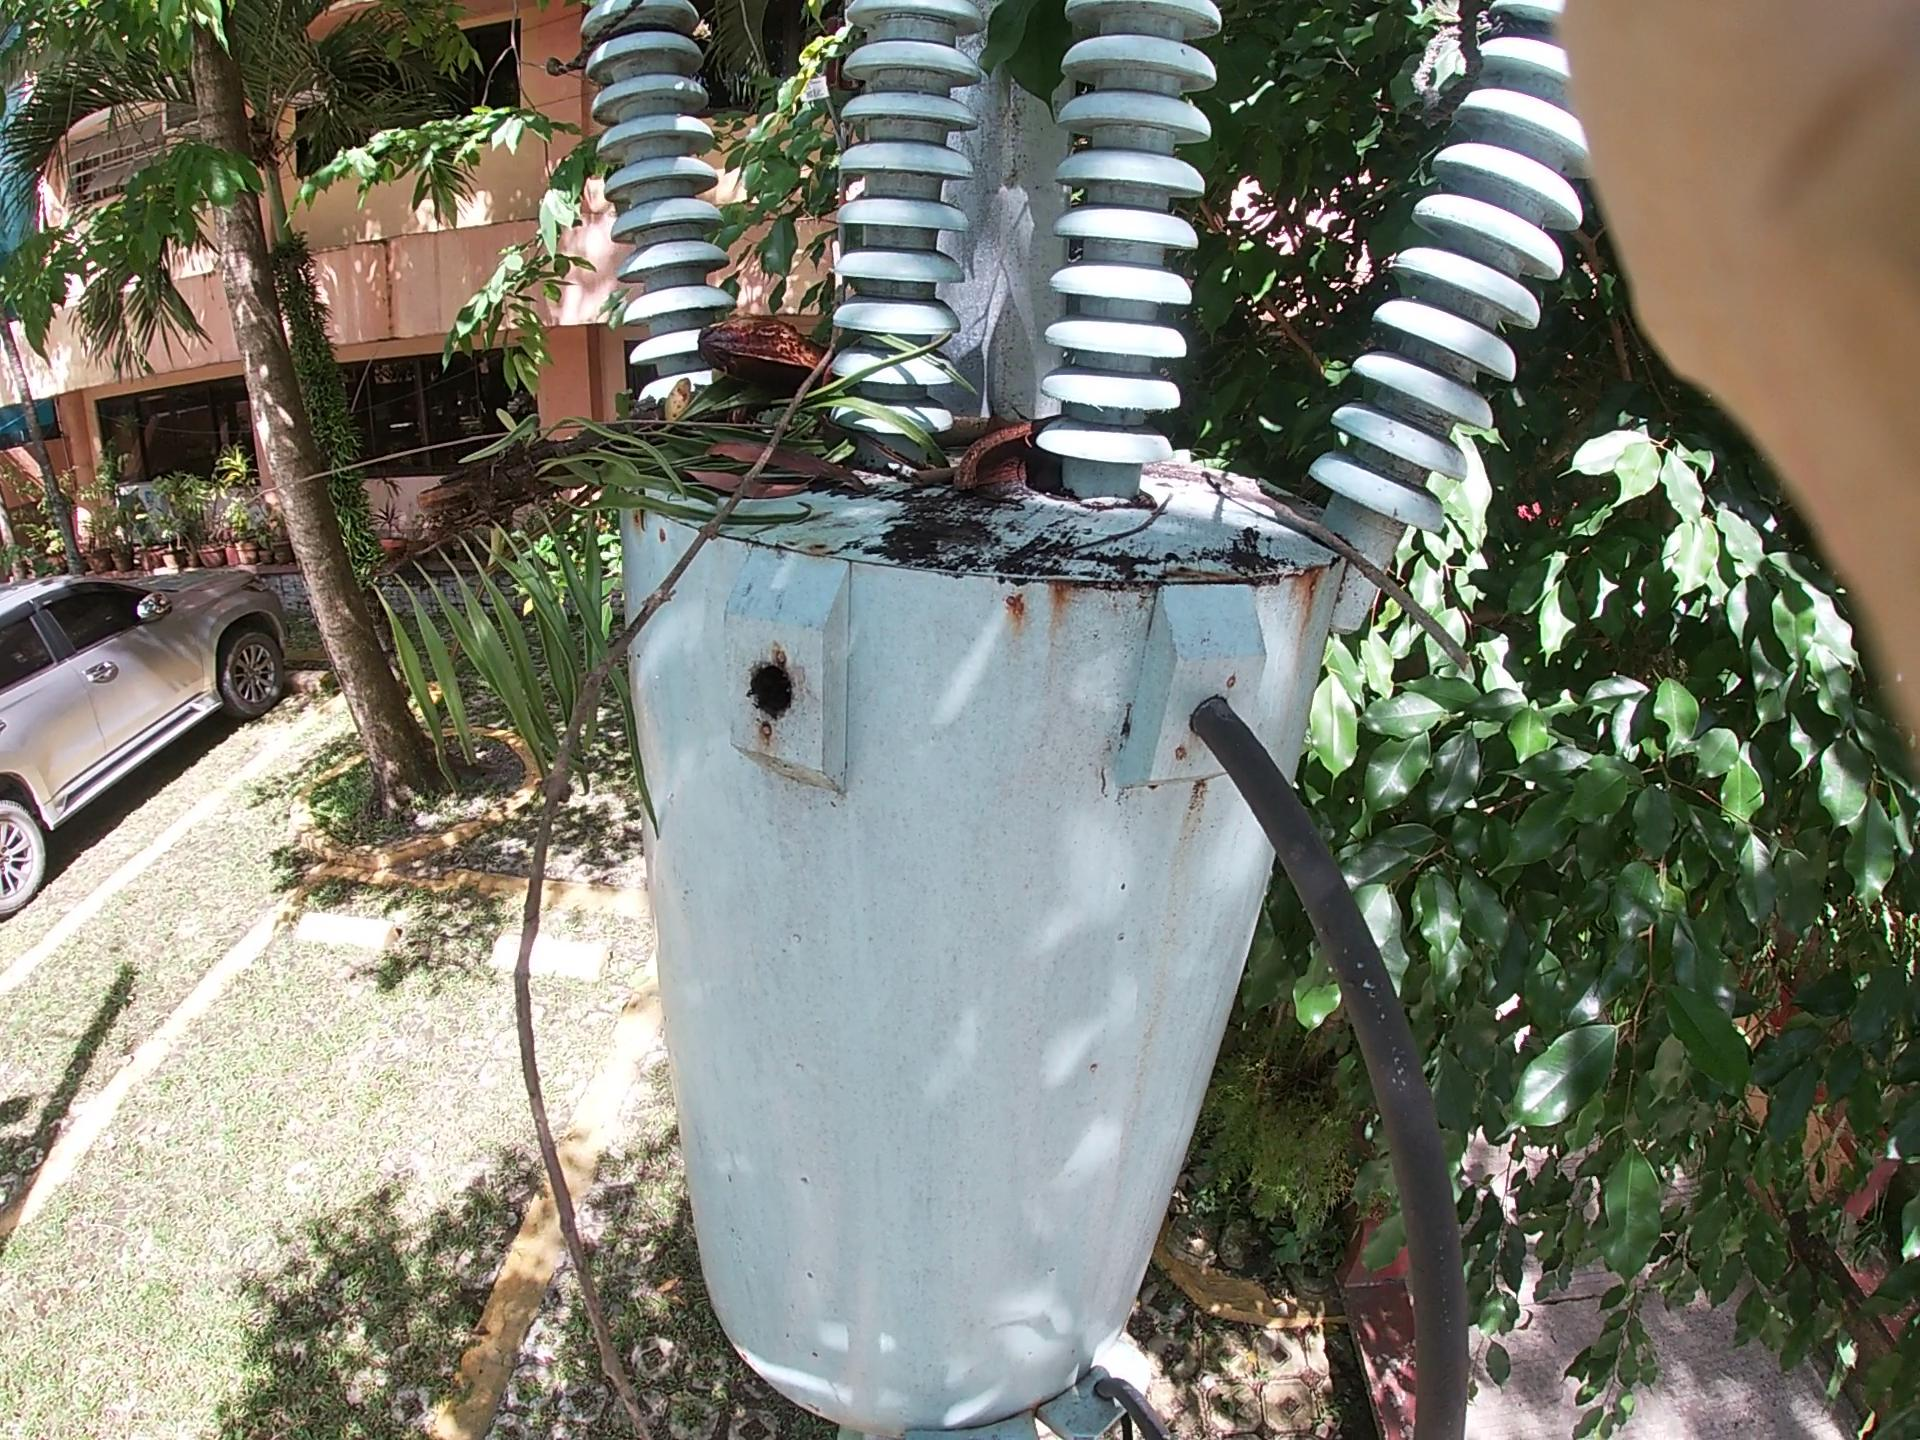branch with leaves: (228, 204, 1048, 768)
leaf: (877, 23, 1104, 150)
mahogany fruit: (912, 405, 1120, 507), (703, 303, 869, 427)
tree branch: (479, 53, 844, 1383), (1123, 414, 1544, 702), (903, 408, 1028, 529)
